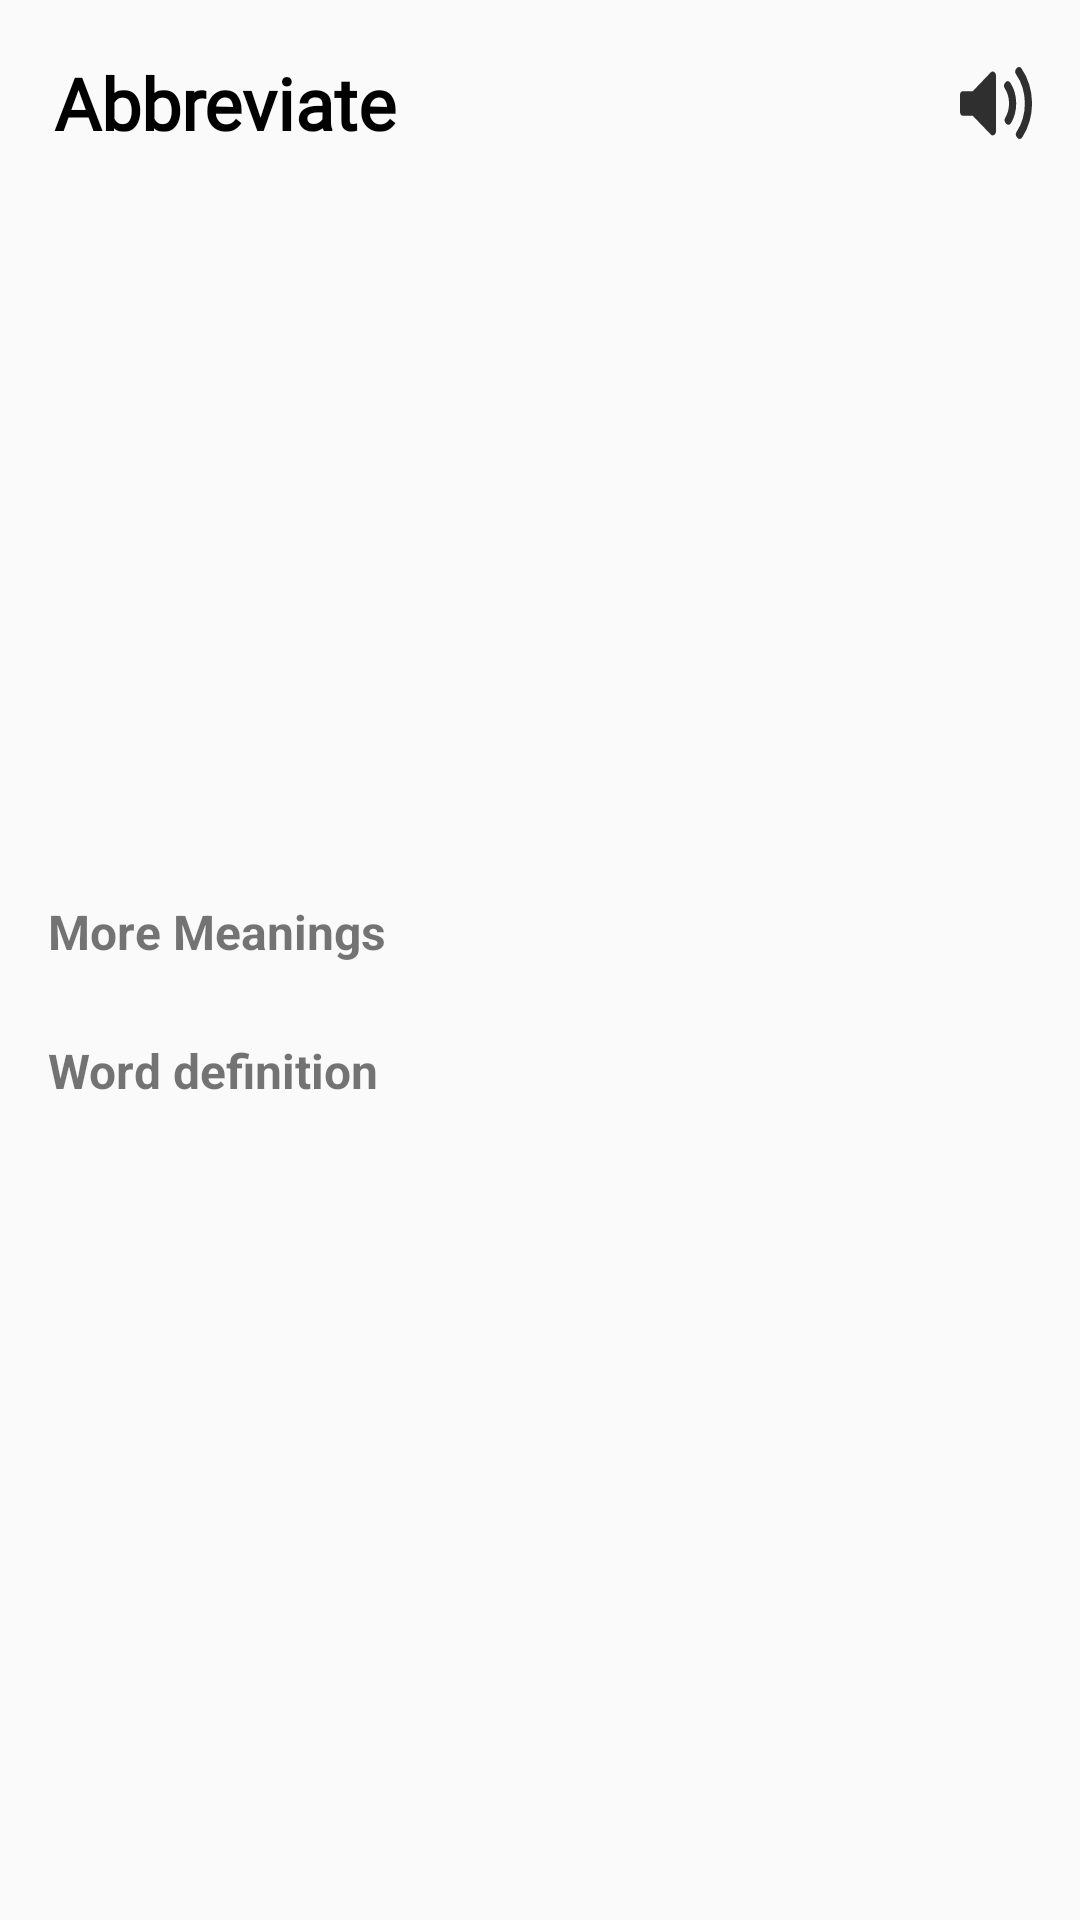

Icons on this 1080 x 1920 Android screen, each with the point to tap as (x,y):
speaker: (996,103)
